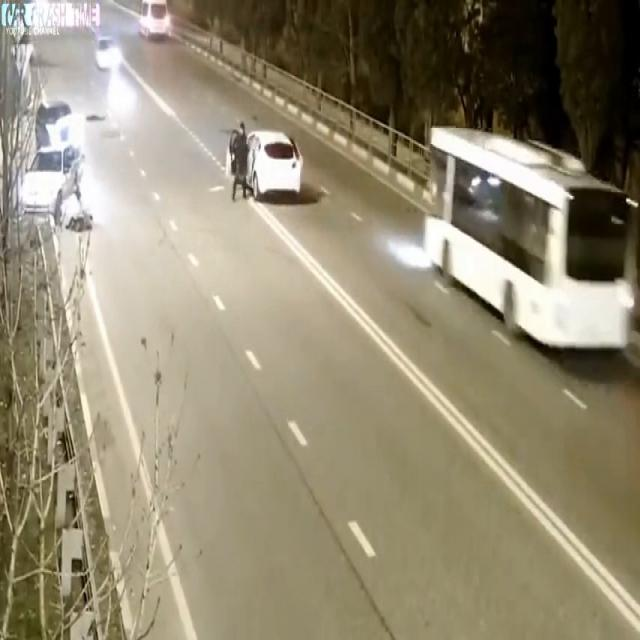Accident: (12, 86, 103, 236)
